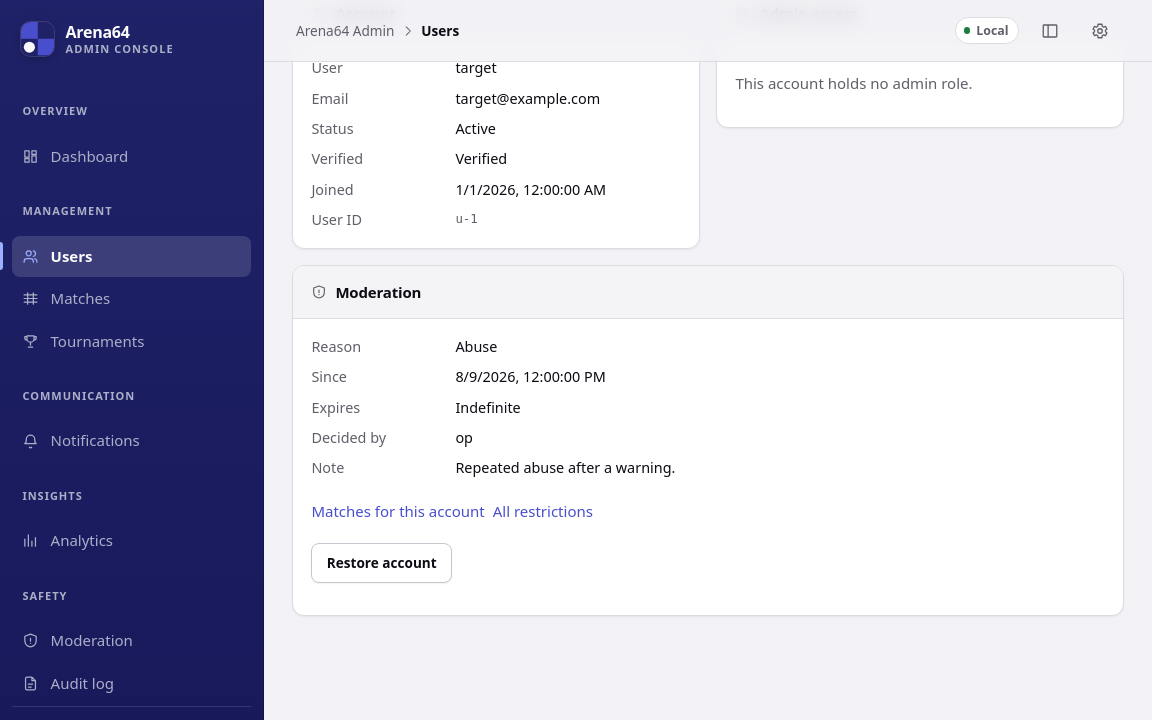
Test case: shows the restriction the server returned, then clears it on restore
The width and height of the screenshot is (1152, 720).
(page scrolled)
Expected: the text "Repeated abuse after a warning." is shown, [455,458,675,477]
Click the button "Restore account" at (382, 563), box [311,543,452,583]
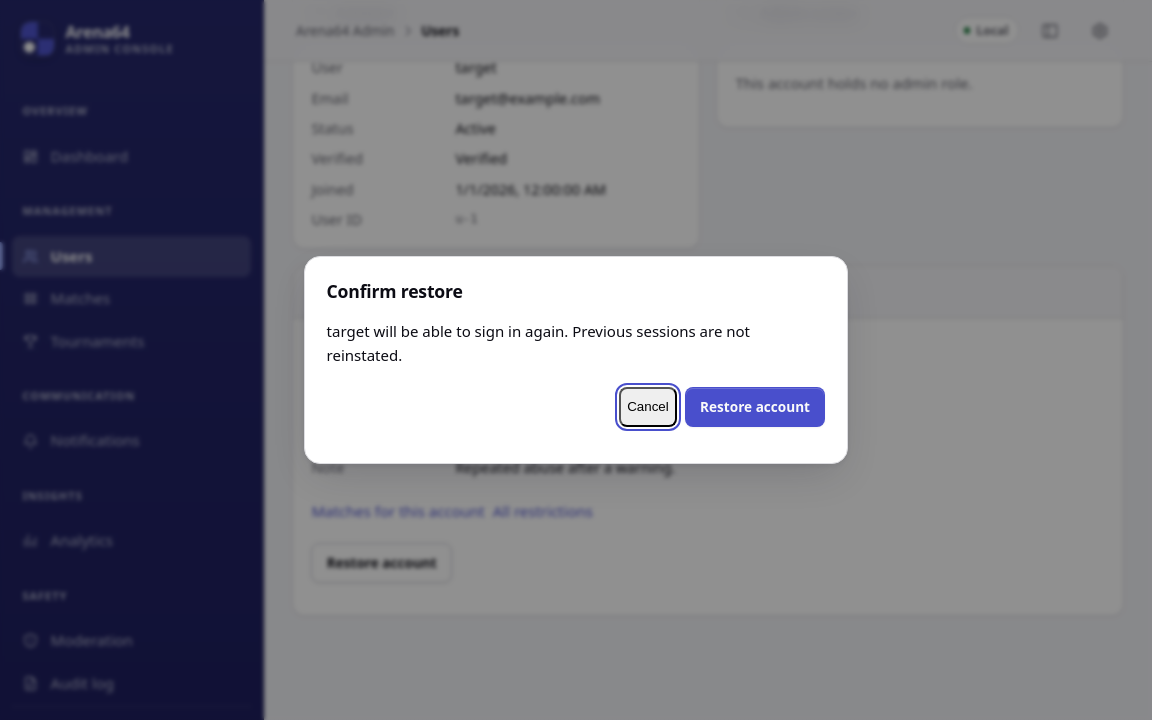
Click the button "Restore account" at (755, 407), box [685,387,825,427]
(page scrolled)
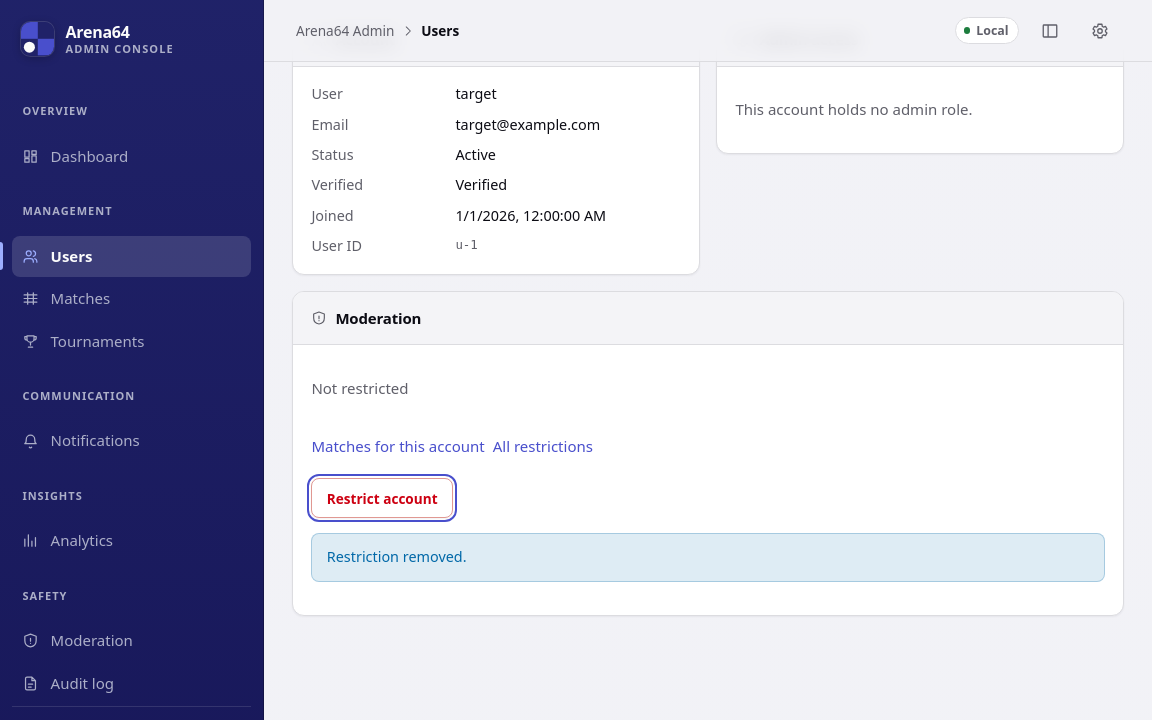
Expected: the text "Not restricted" is shown, [311,378,408,398]
